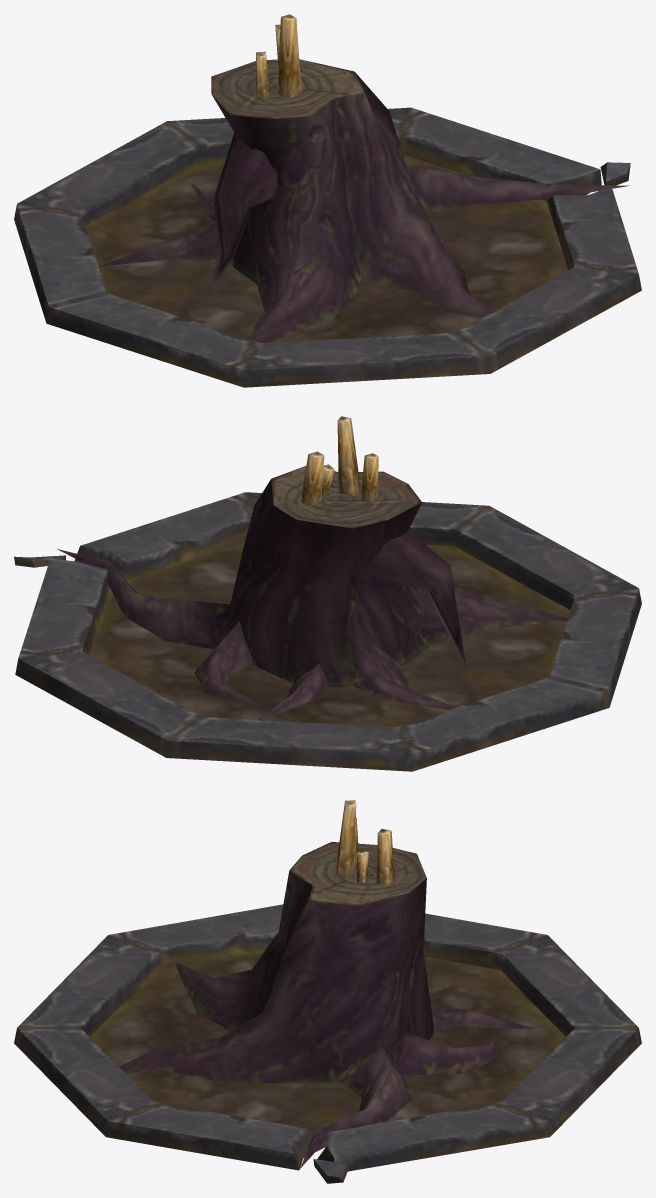
File: common_underground_shuzhuang.FBX
3 renders of one model, top to bottom at view 1: azimuth 30°, elevation 25°; view 2: azimuth 150°, elevation 25°; view 3: azimuth 270°, elevation 25°, orthographic. The views are drawn at different scales.
Parts seen in each view (by area): view 1: common_underground_shuzhuang; view 2: common_underground_shuzhuang; view 3: common_underground_shuzhuang.
Boxes of the visible parts, <box> form: common_underground_shuzhuang: <box>14,14,641,387</box>; common_underground_shuzhuang: <box>14,416,641,771</box>; common_underground_shuzhuang: <box>14,800,641,1183</box>.
Size of the model in its own units: 5.79 by 2.27 by 5.52.
